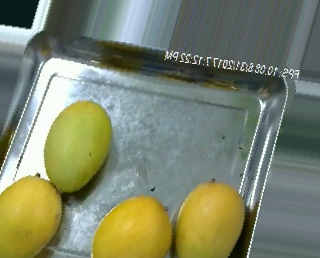Mango: (44, 99, 110, 192), (174, 181, 247, 258), (0, 177, 62, 258), (90, 197, 171, 258)
